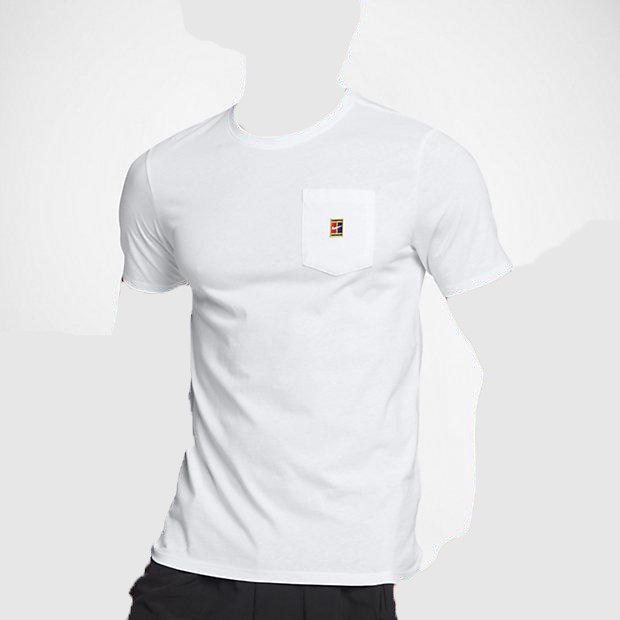teeshirt: (105, 89, 516, 595)
